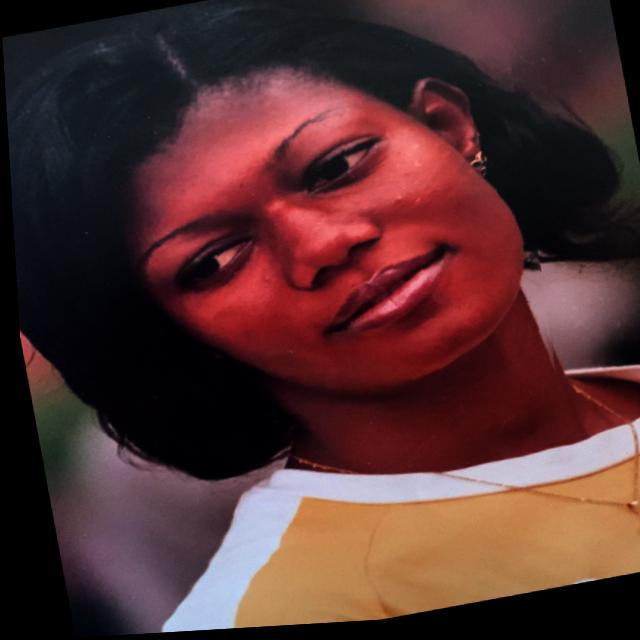happy: (62, 25, 562, 453)
